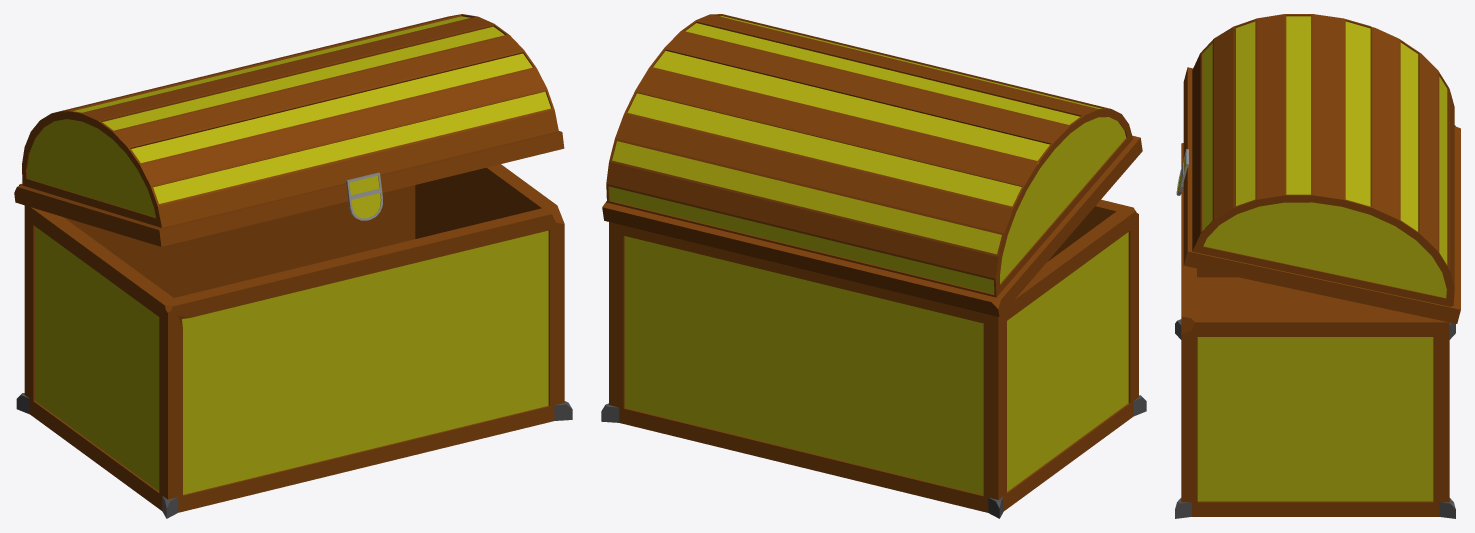
Rendered from Chest.fbx.
The picture shows the model from 3 angles, left to right: view 1: azimuth 30°, elevation 25°; view 2: azimuth 150°, elevation 25°; view 3: azimuth 270°, elevation 25°; orthographic projection. The views are drawn at different scales.
Parts seen in each view (by area): view 1: Box, Lid, Feet; view 2: Box, Lid, Feet; view 3: Lid, Box, Feet.
Boxes of the visible parts, left/top/right/bottom form: Box: left=24, top=164, right=564, bottom=512; Lid: left=14, top=14, right=564, bottom=246; Feet: left=16, top=393, right=572, bottom=518; Box: left=609, top=199, right=1138, bottom=512; Lid: left=602, top=14, right=1142, bottom=316; Feet: left=601, top=395, right=1146, bottom=518; Lid: left=1176, top=14, right=1460, bottom=323; Box: left=1181, top=143, right=1449, bottom=516; Feet: left=1175, top=319, right=1455, bottom=518.
Bounding box in the file's own units: 164 × 132 × 107.
